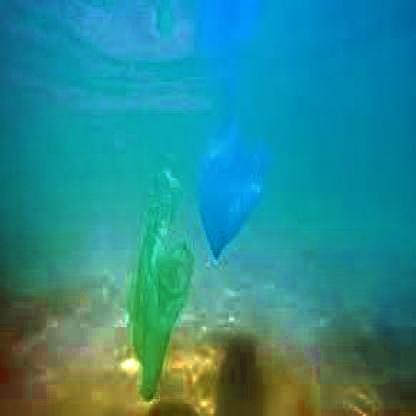pbag: (129, 161, 196, 404), (190, 115, 267, 262)
